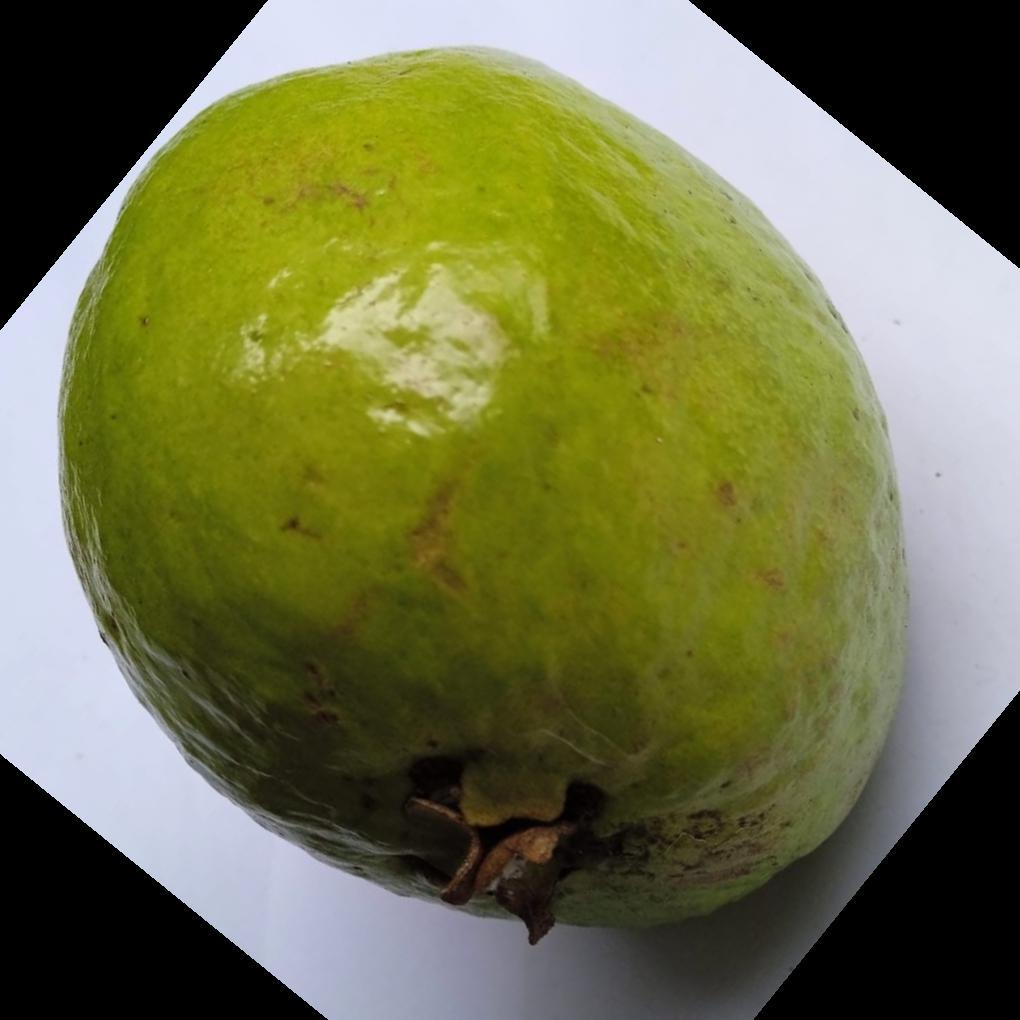FreshGuava: (56, 46, 911, 945)
